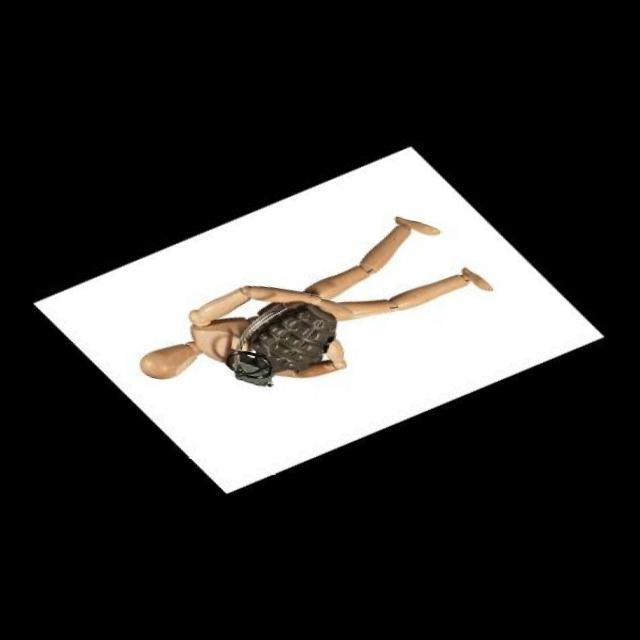grenade: (220, 292, 342, 410)
